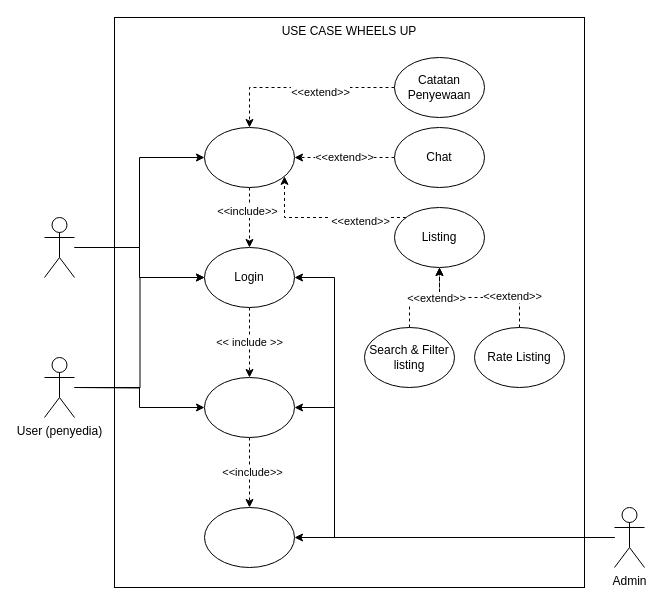
The diagram is 664 pixels wide and 606 high, and some of its shapes have lost their labels. The centre of each missing label's shape, as x and y in pixels:
"Penyewaan Mobil" belongs at (249,157).
"Register" belongs at (249,407).
"User (penyewa)" belongs at (59,247).
"Validasi Data" belongs at (249,537).
